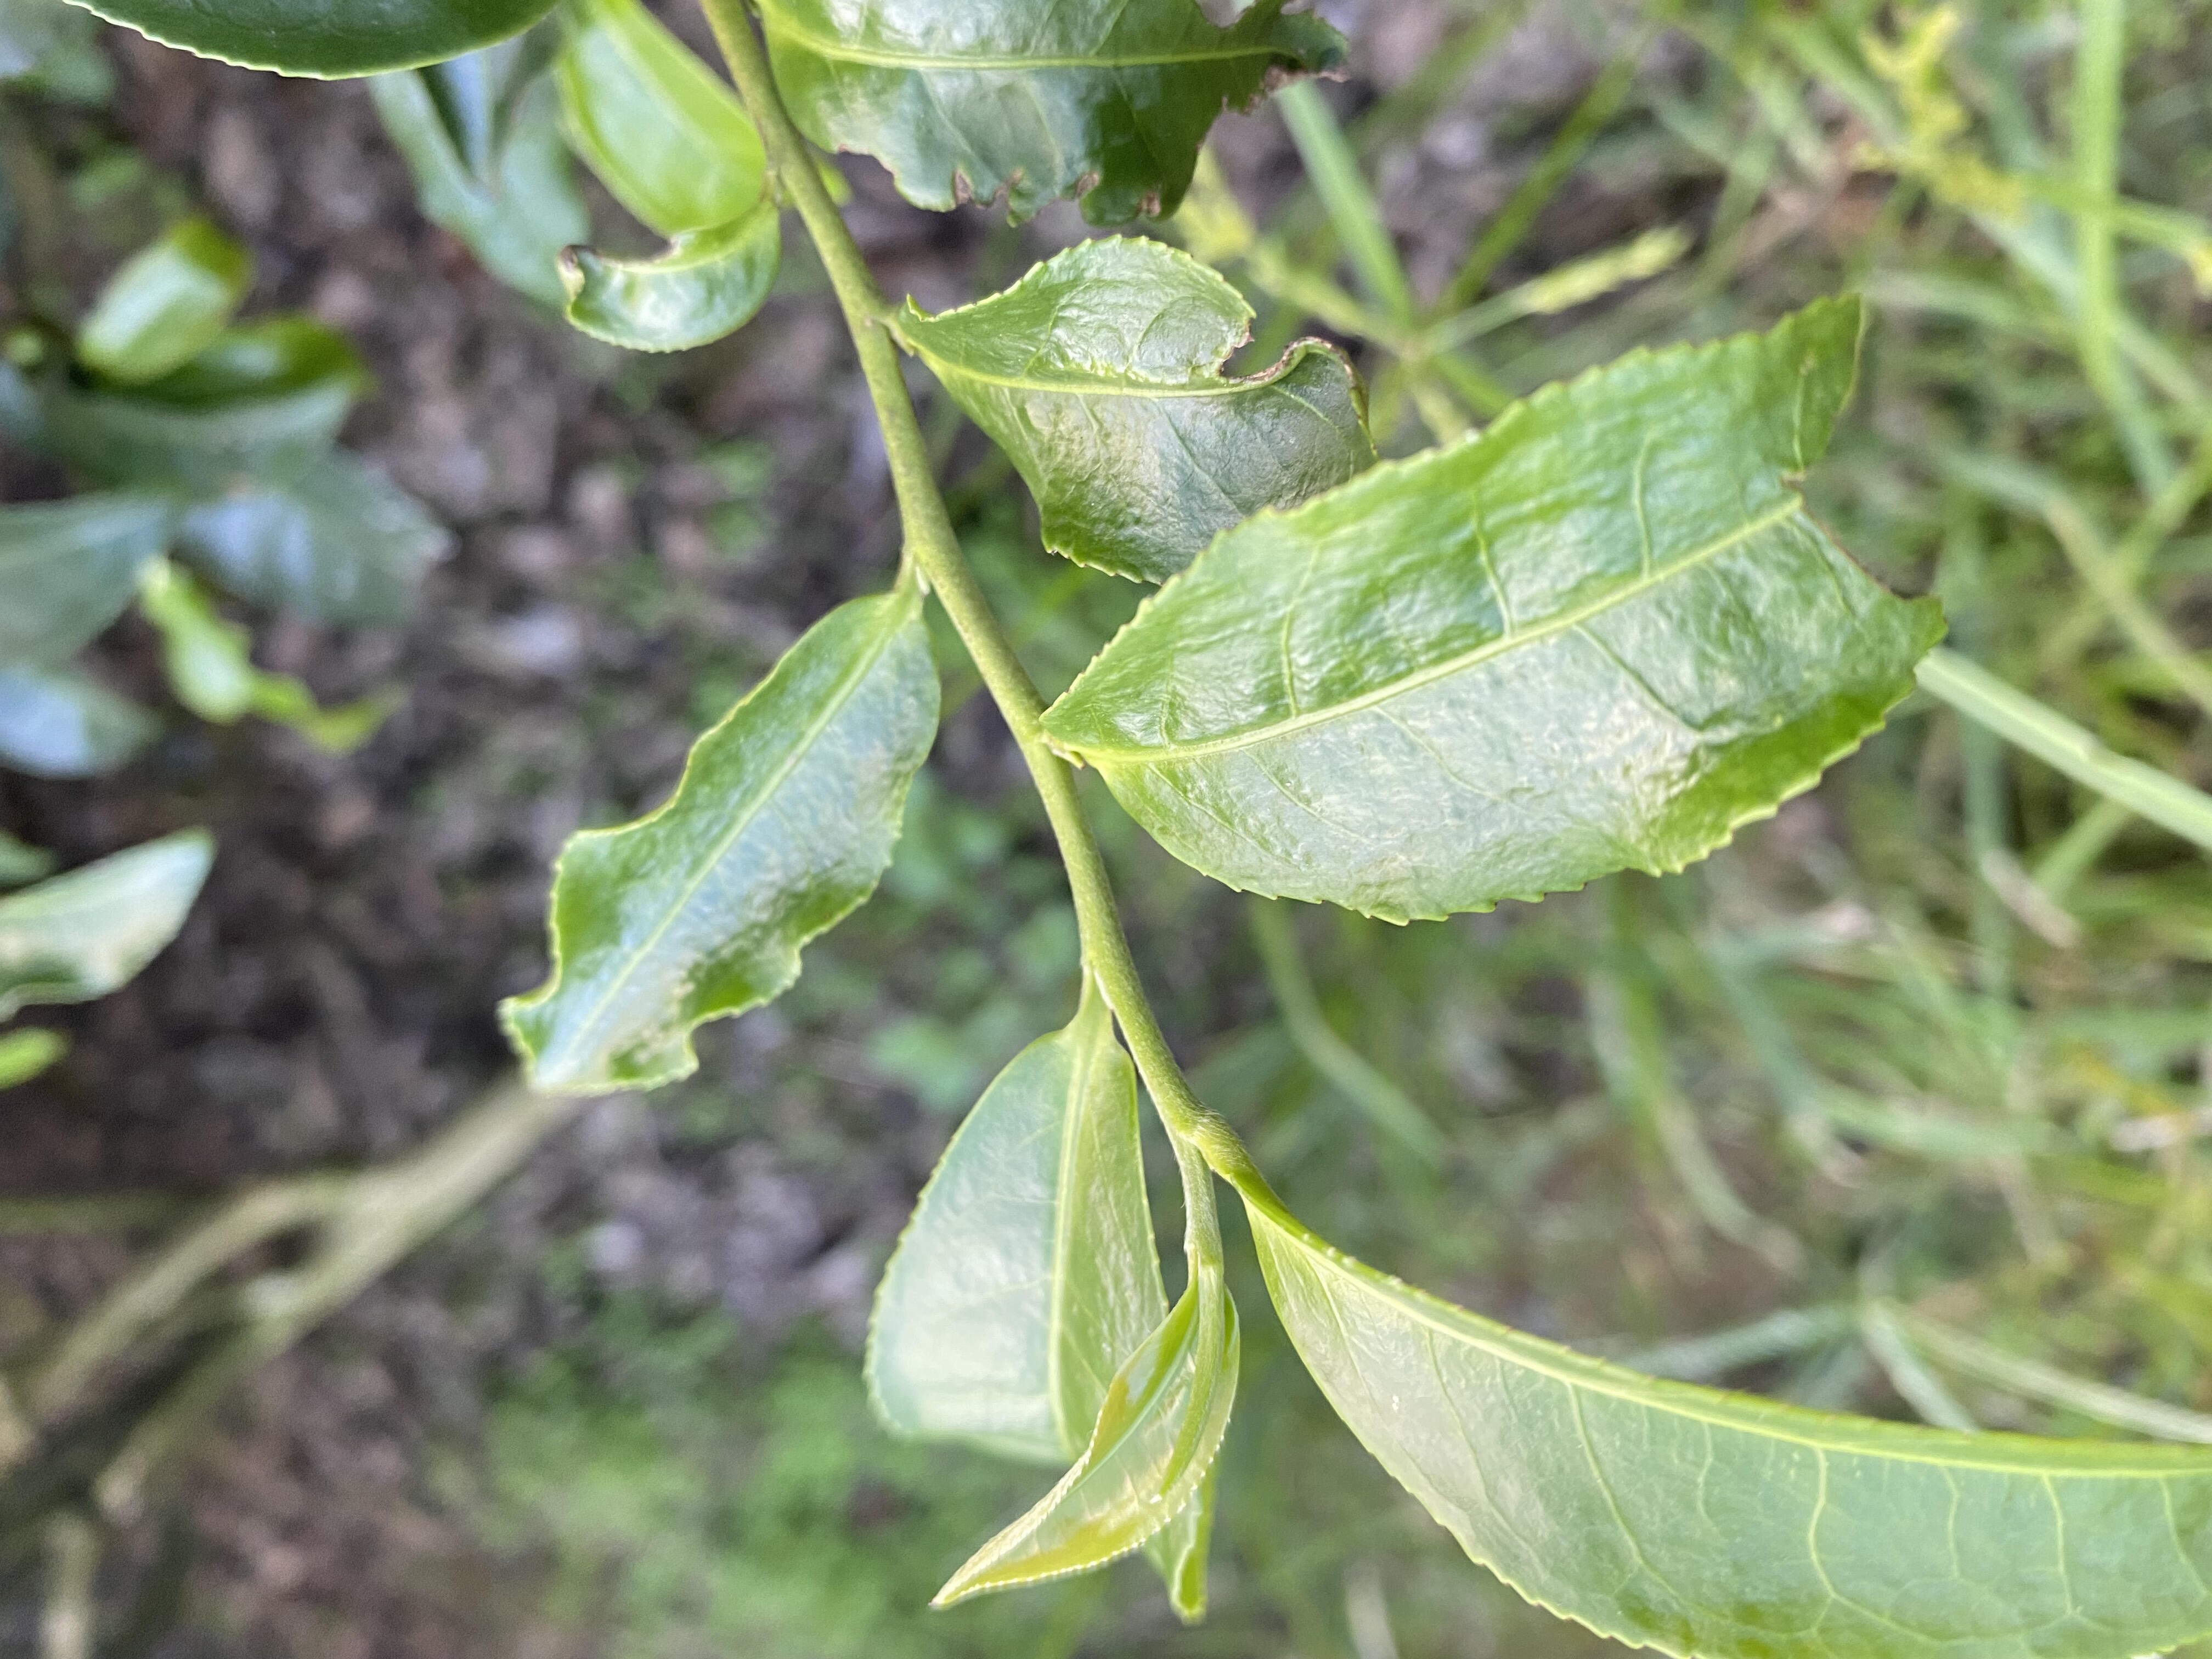chihuo_high: (1035, 291, 1951, 932), (486, 594, 942, 1100), (907, 232, 1379, 591), (754, 2, 1357, 230)
healthy: (1244, 1182, 2212, 1656), (860, 1019, 1216, 1615), (930, 1269, 1247, 1610)
